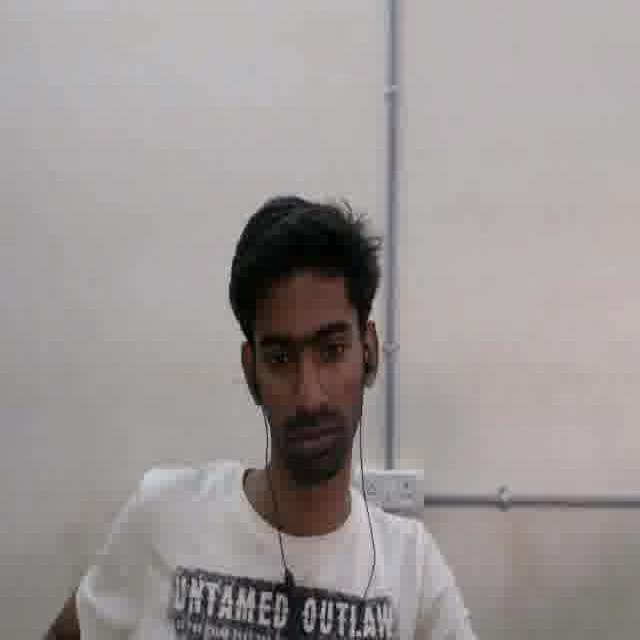Engaged: (250, 284, 365, 479)
